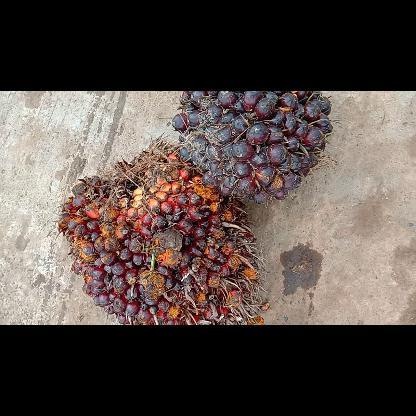TBS masak: (58, 132, 266, 324)
TBS mentah: (171, 91, 332, 204)
